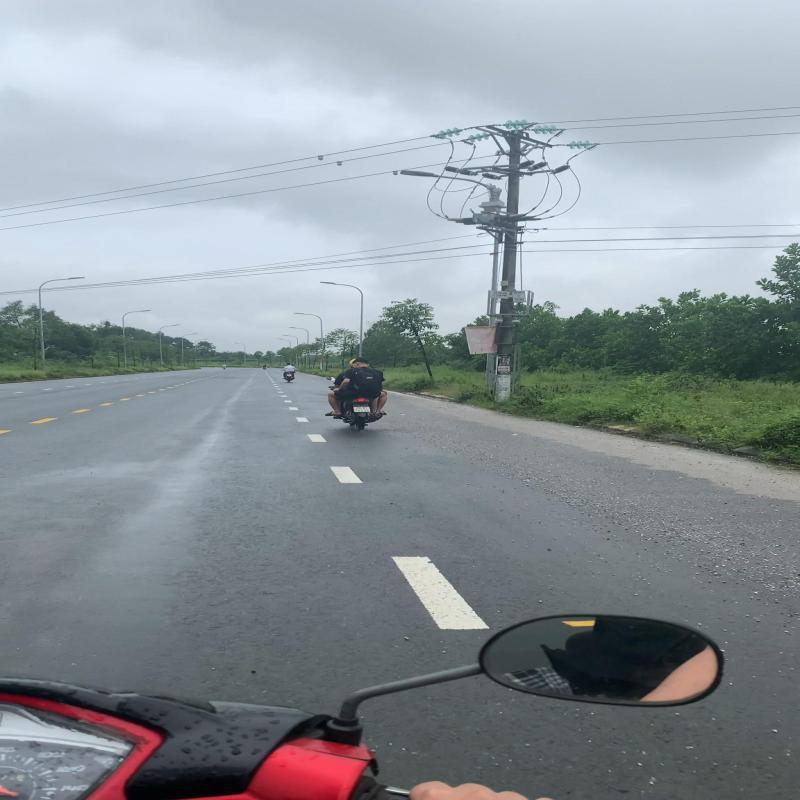licenseplate: (352, 406, 373, 412)
motorcyclist: (324, 355, 392, 432)
nohelmet: (349, 357, 370, 367)
